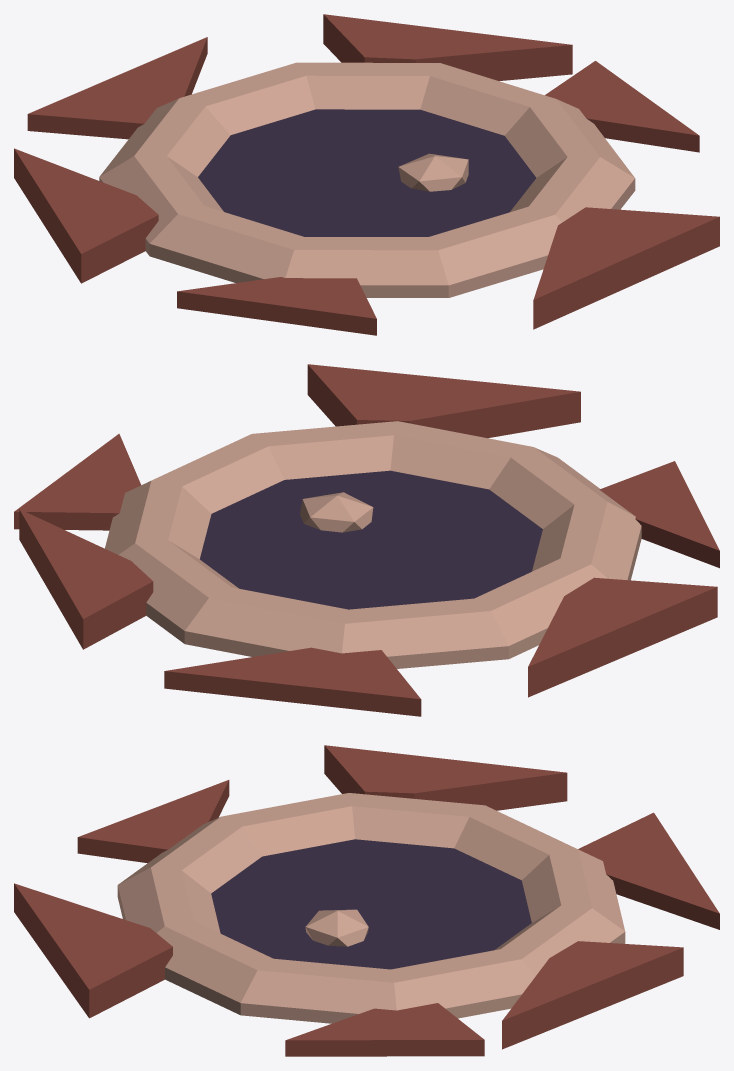
File: crater-m-volcanic.glb
3 renders of one model, top to bottom at view 1: azimuth 30°, elevation 25°; view 2: azimuth 150°, elevation 25°; view 3: azimuth 270°, elevation 25°, orthographic. The views are drawn at different scales.
Parts seen in each view (by area): view 1: crater-m-volcanic; view 2: crater-m-volcanic; view 3: crater-m-volcanic.
Boxes of the visible parts, <box> form: crater-m-volcanic: <box>14,14,719,335</box>; crater-m-volcanic: <box>14,364,719,716</box>; crater-m-volcanic: <box>14,745,719,1056</box>.
Bounding box in the file's own units: 1.48 × 0.1032 × 1.56.
